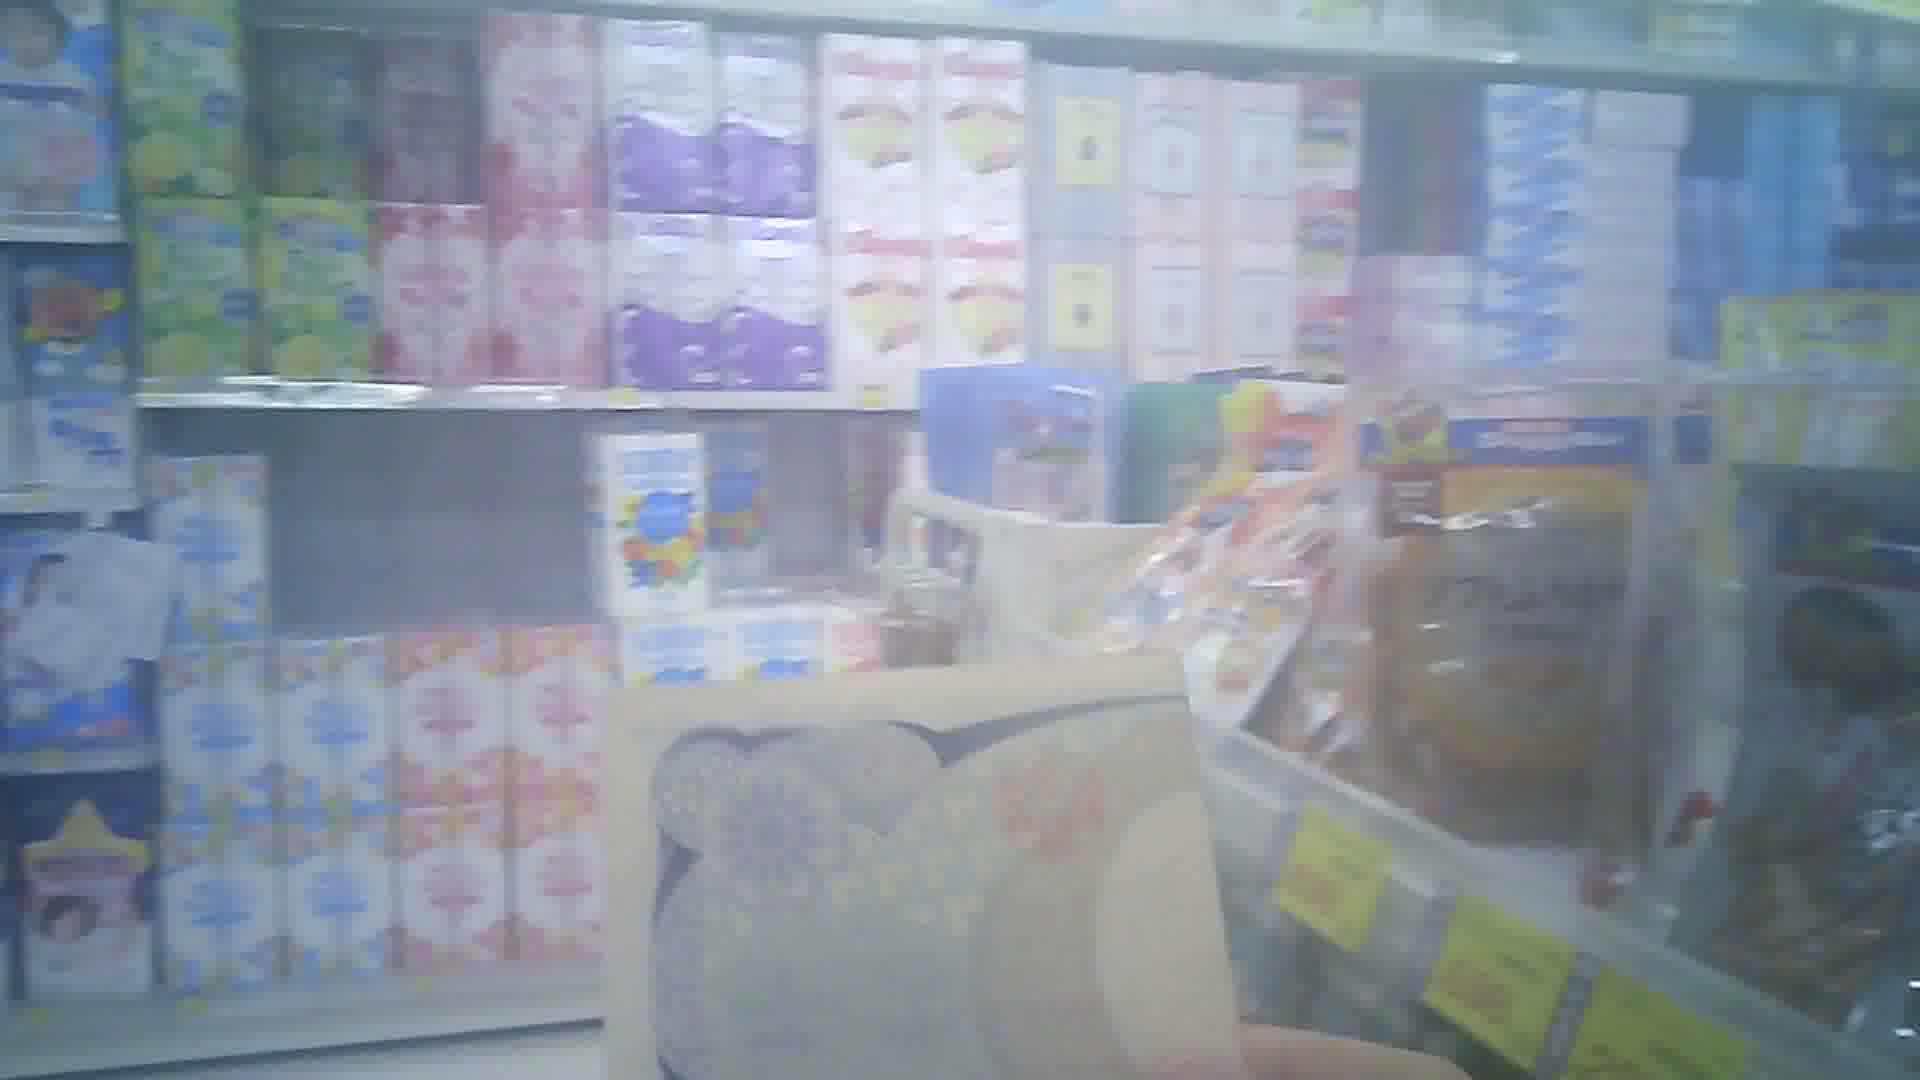1,000 Yen: (600, 628, 1245, 1073)
